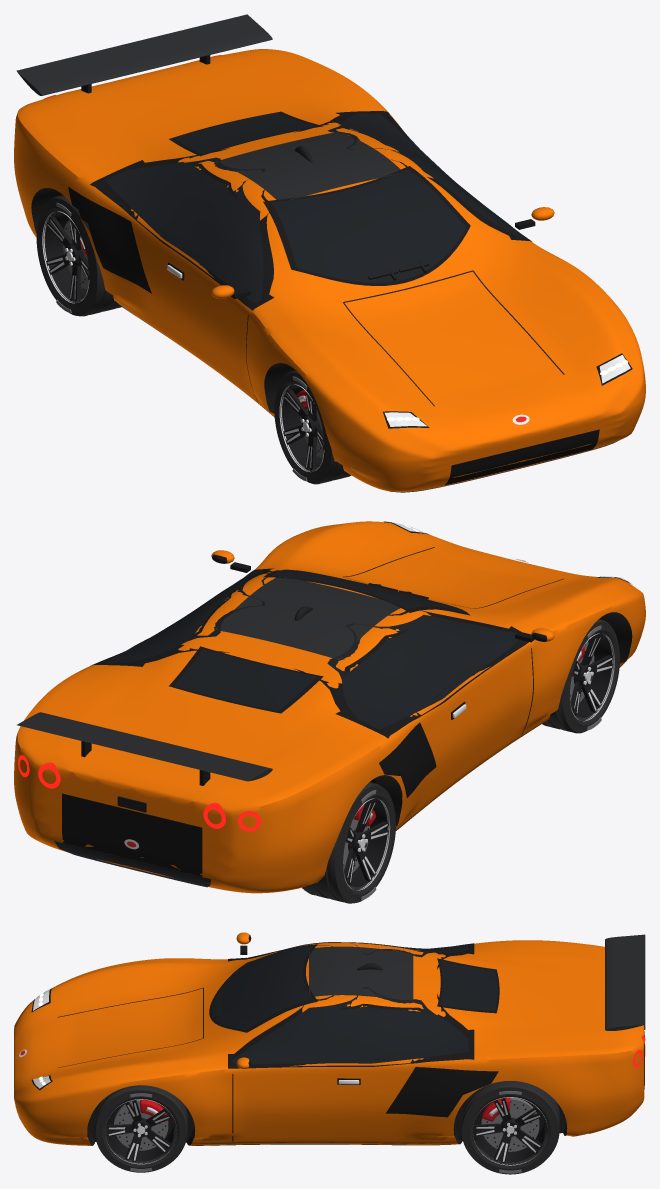
Rendered from regera.glb.
The picture shows the model from 3 angles, top to bottom: view 1: azimuth 30°, elevation 25°; view 2: azimuth 150°, elevation 25°; view 3: azimuth 270°, elevation 25°; orthographic projection. The views are drawn at different scales.
Parts seen in each view (by area): view 1: Body, Wheel_RR, Wheel_FR; view 2: Body, Wheel_RR, Wheel_FR; view 3: Body, Wheel_RL, Wheel_FL.
Part boxes in pixels (x1,y1,x2,y2): Body: (14,14,645,492); Wheel_RR: (36,195,121,316); Wheel_FR: (274,370,351,484); Body: (14,521,645,893); Wheel_RR: (302,782,395,903); Wheel_FR: (542,619,619,733); Body: (14,932,645,1145); Wheel_RL: (461,1081,559,1174); Wheel_FL: (94,1085,187,1172).
Bounding box in the file's own units: 2.3 × 1.25 × 4.62.
